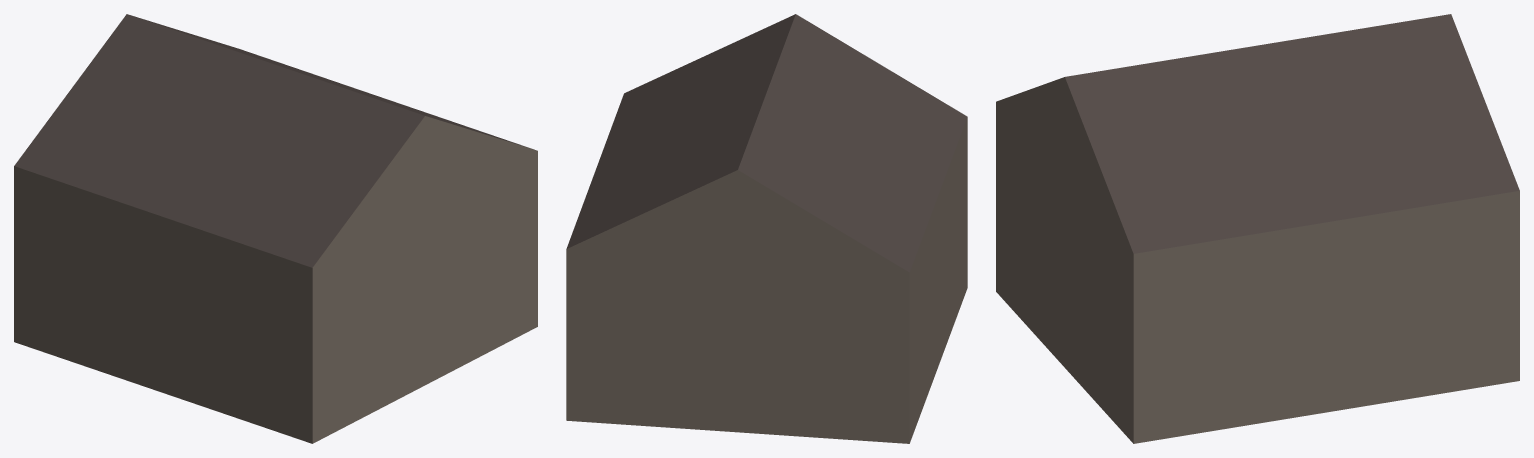
3 renders of one model, left to right at view 1: azimuth 30°, elevation 25°; view 2: azimuth 150°, elevation 25°; view 3: azimuth 270°, elevation 25°, orthographic. The views are drawn at different scales.
Parts seen in each view (by area): view 1: HP-w859082504; view 2: HP-w859082504; view 3: HP-w859082504.
Boxes of the visible parts, x1,y1,x2,y2 form: HP-w859082504: [14, 14, 537, 443]; HP-w859082504: [566, 14, 967, 443]; HP-w859082504: [996, 14, 1519, 443].
Bounding box in the file's own units: 14.57 × 9.19 × 14.99.
